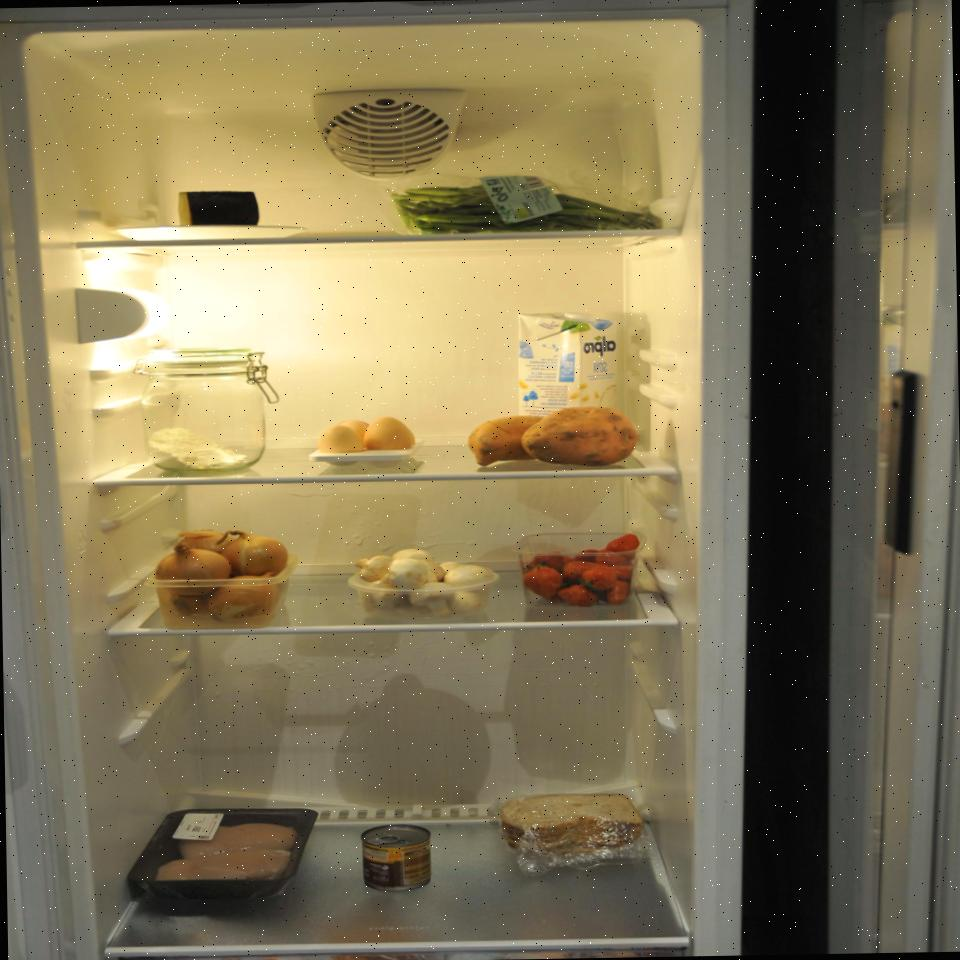Carne pollo: (119, 804, 323, 906)
Huevos: (312, 410, 426, 474)
Leche: (504, 302, 621, 460)
Queso: (174, 188, 260, 235)
strawberries: (515, 532, 644, 612)
